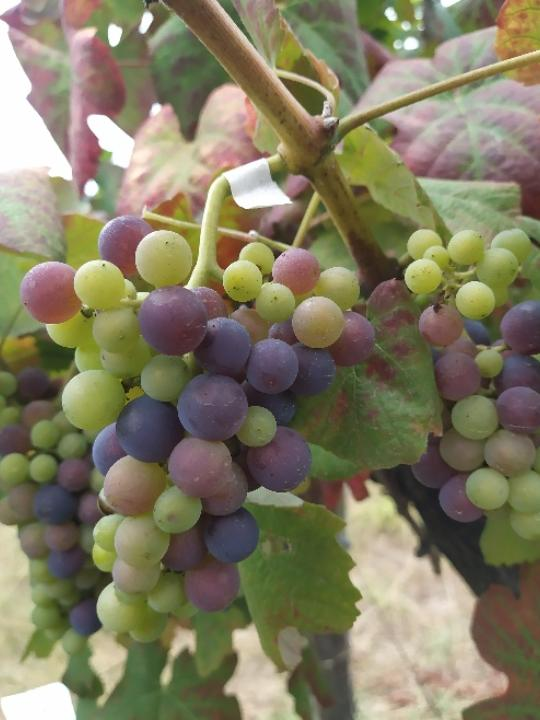grape: (16, 209, 379, 647), (402, 224, 540, 543)
